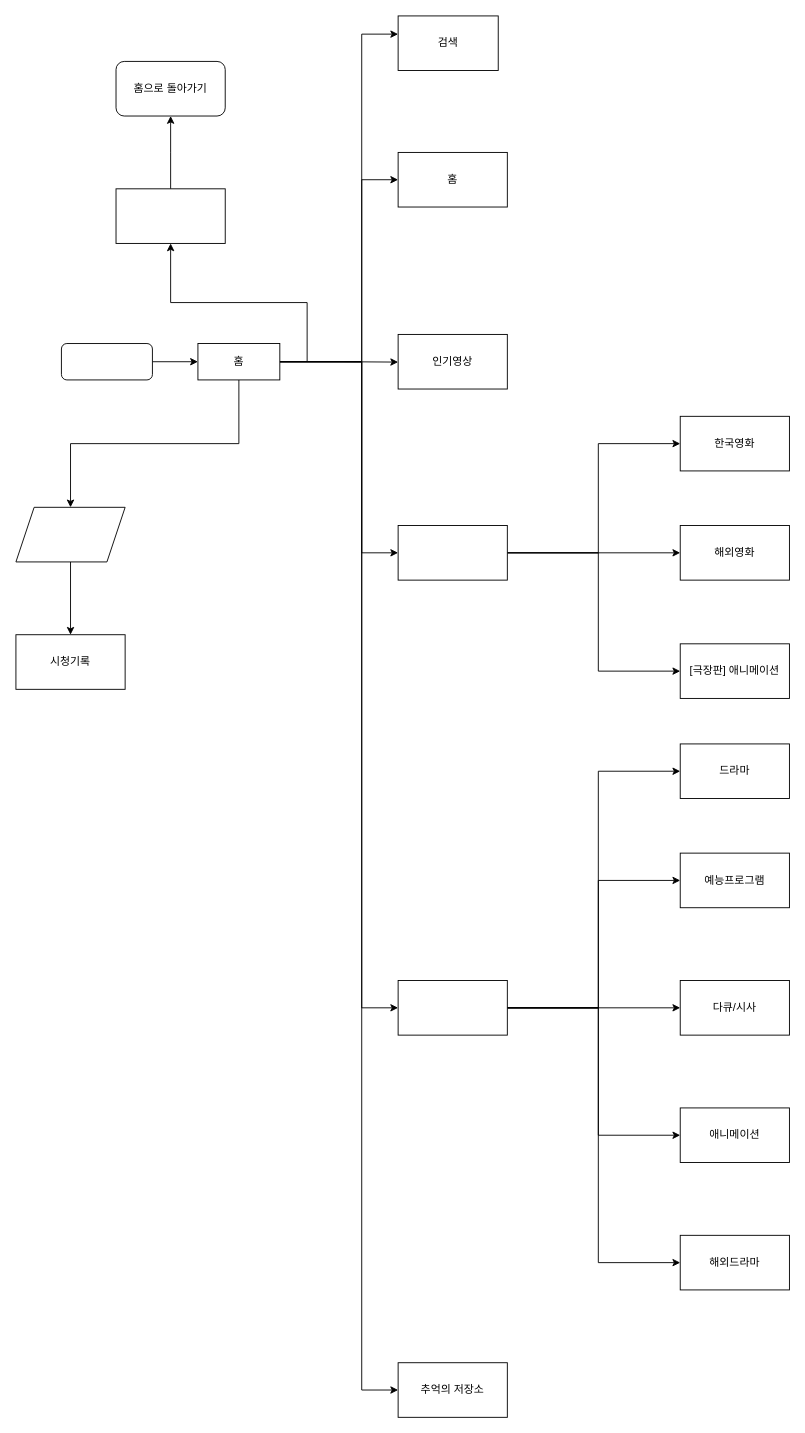
This 805x1433 diagram has some shape labels left out. The shapes that lost their labels are listed below. From the top down, each one's centre as x and y in pixels, then its label:
At pixel 170 215: "로그인".
At pixel 106 361: "NooNooTV".
At pixel 70 534: "회원".
At pixel 452 552: "영화".
At pixel 452 1007: "방송 프로그램".
